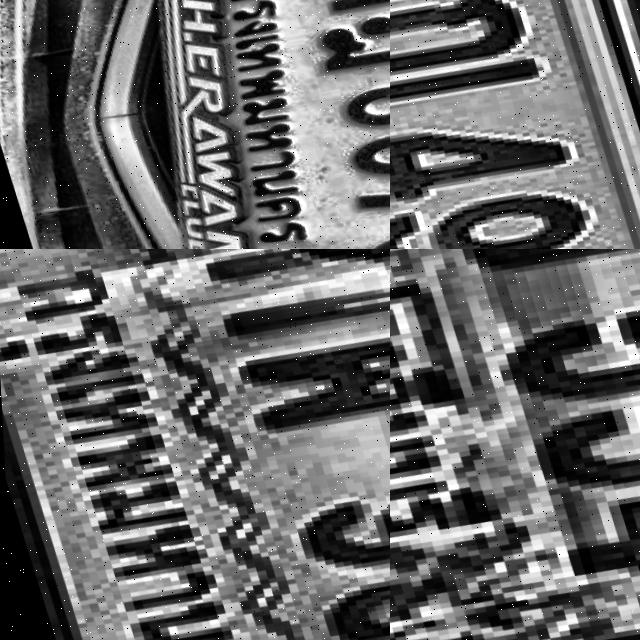license-plate: (0, 249, 390, 640), (390, 249, 640, 640), (43, 0, 390, 249), (390, 0, 640, 249)
